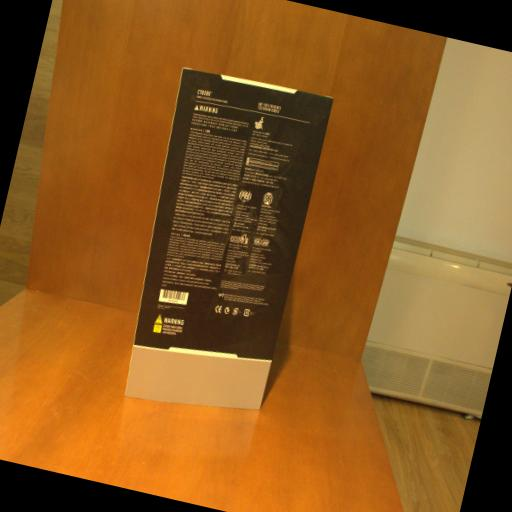Cyborg: (106, 62, 334, 428)
